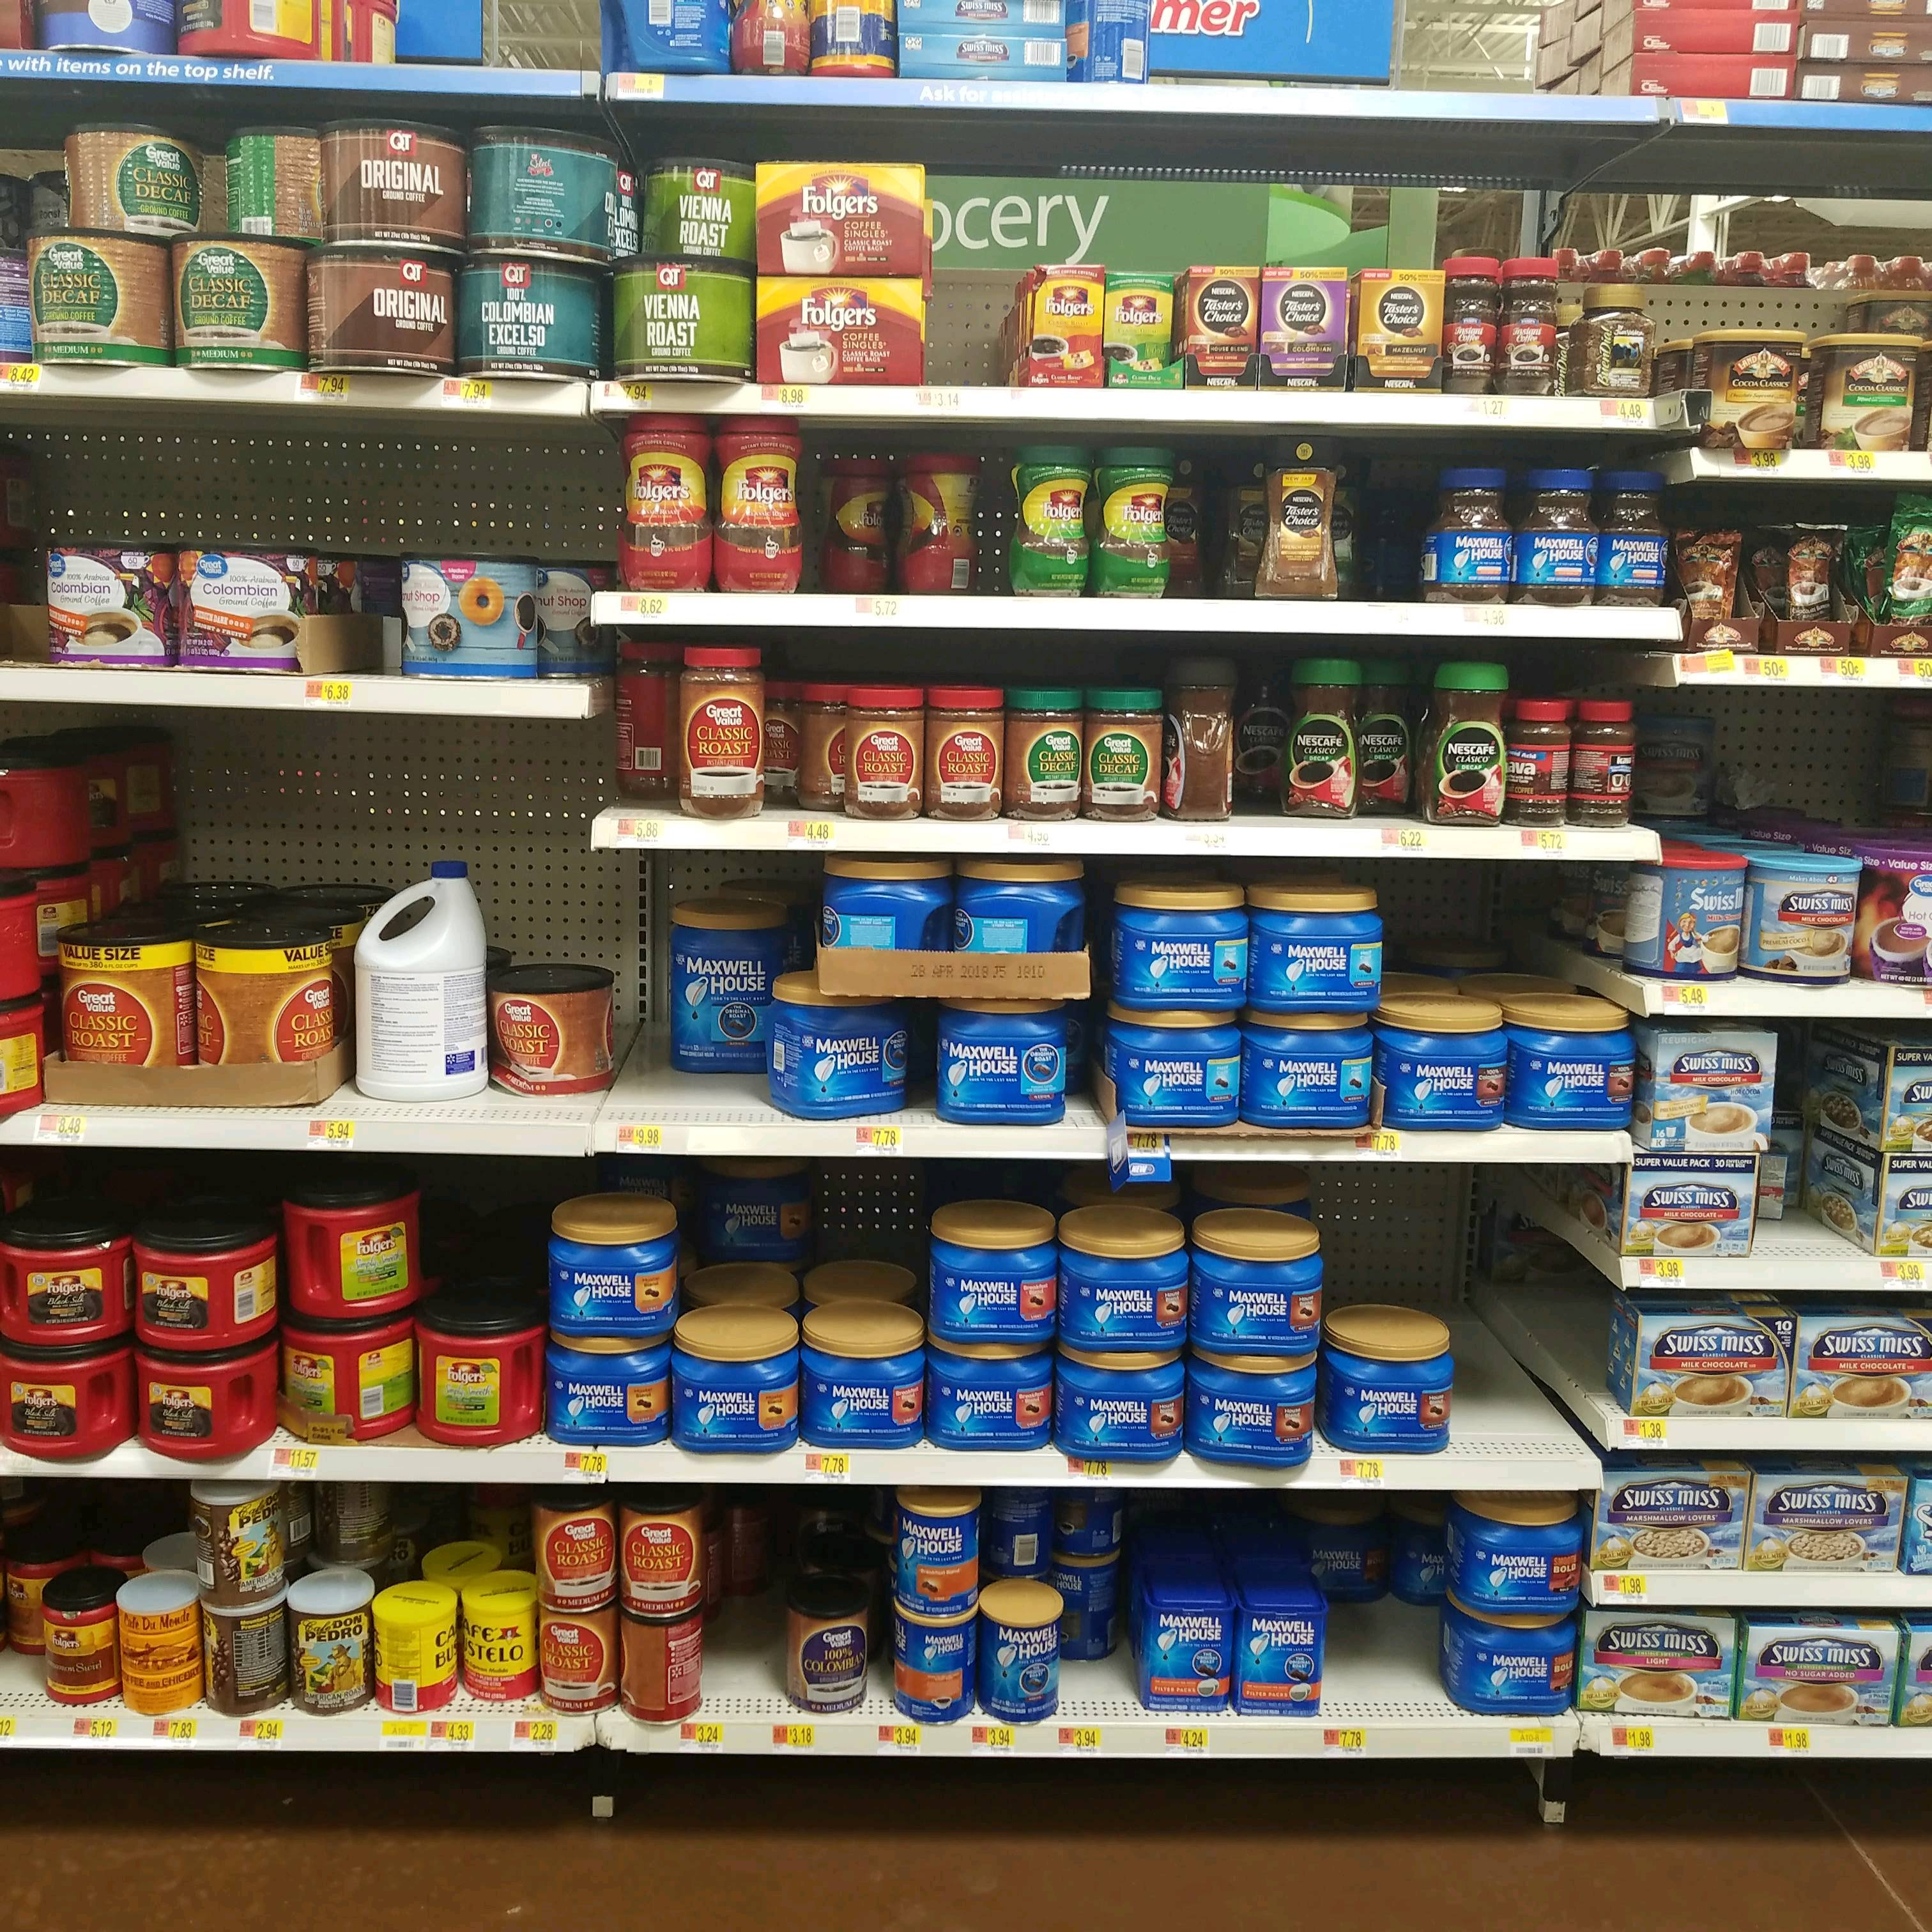Misplacement: (803, 423, 901, 598)
Out-of-stock: (1380, 892, 1511, 1161)
